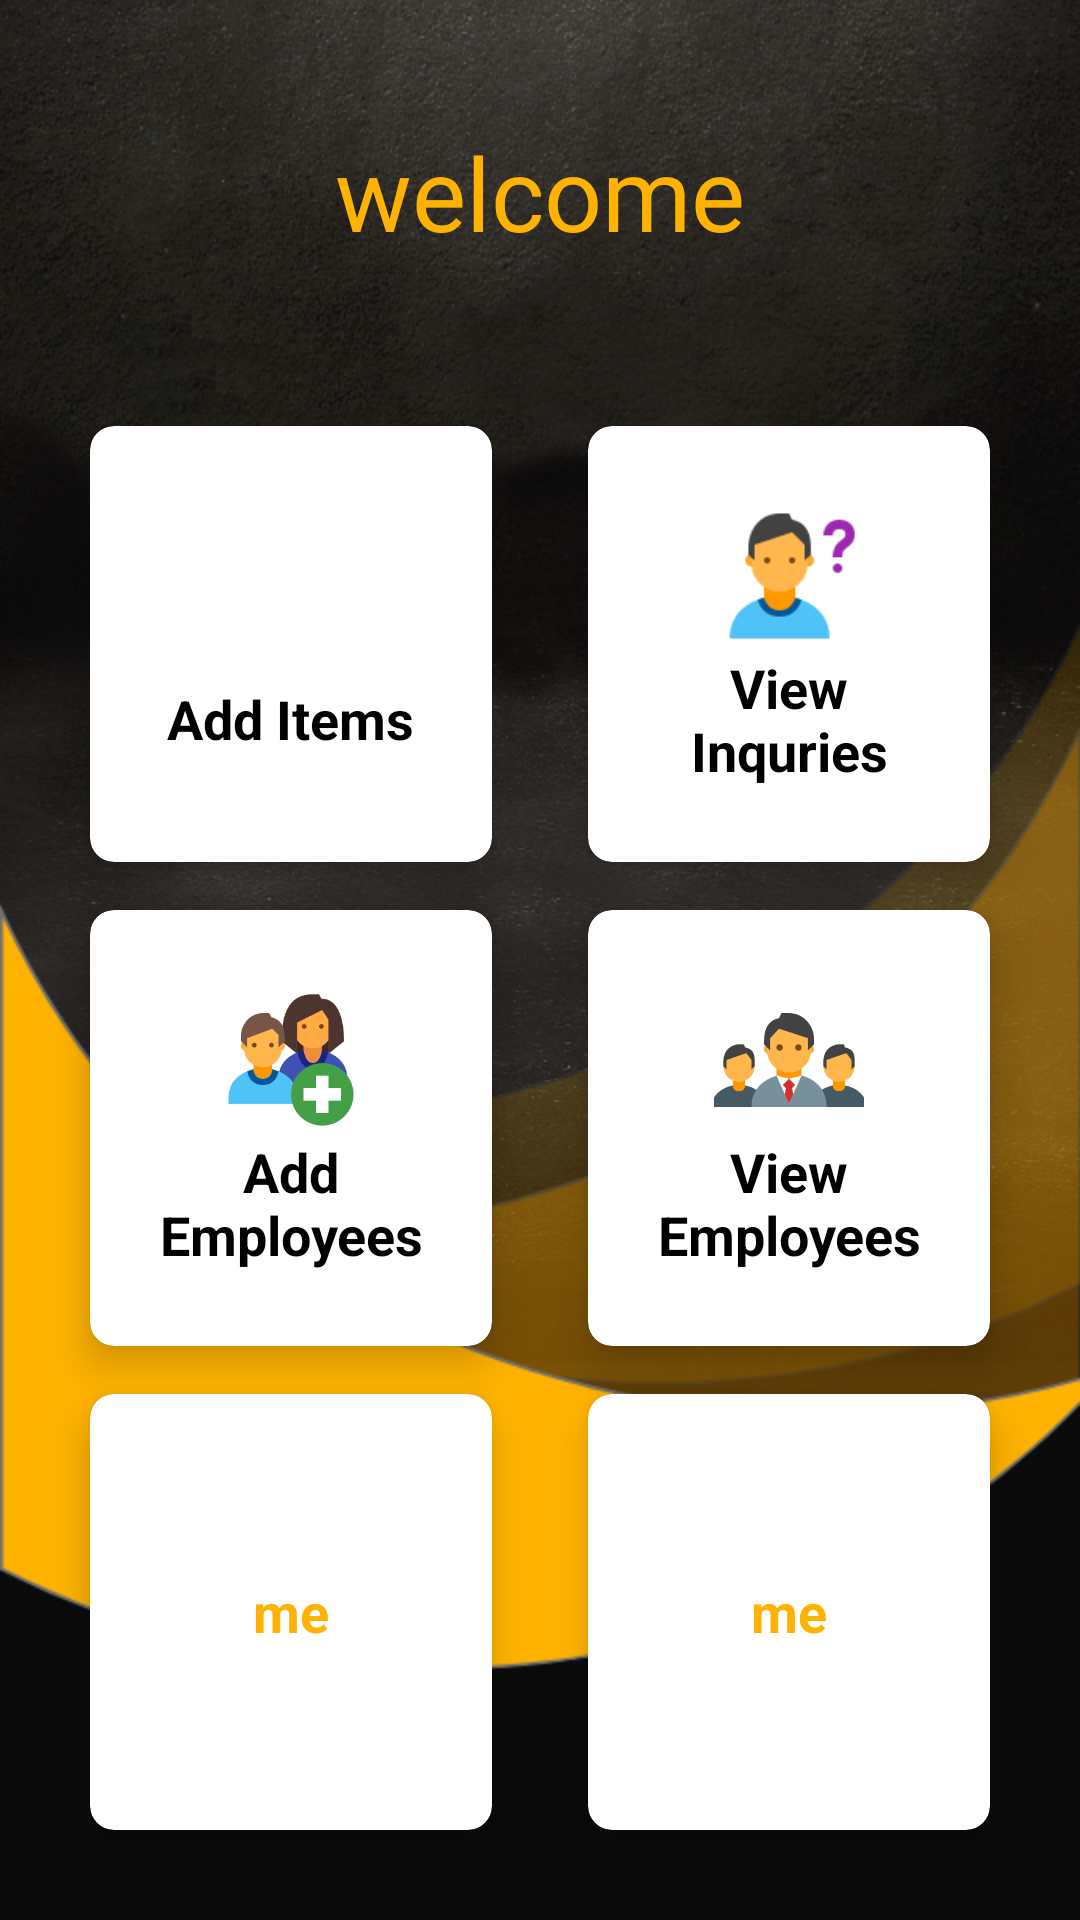

Icon bounding boxes for this 1080x1920 phone screenshot, format (x1, y1, x2, y2):
inquiry: (729, 513, 855, 639)
